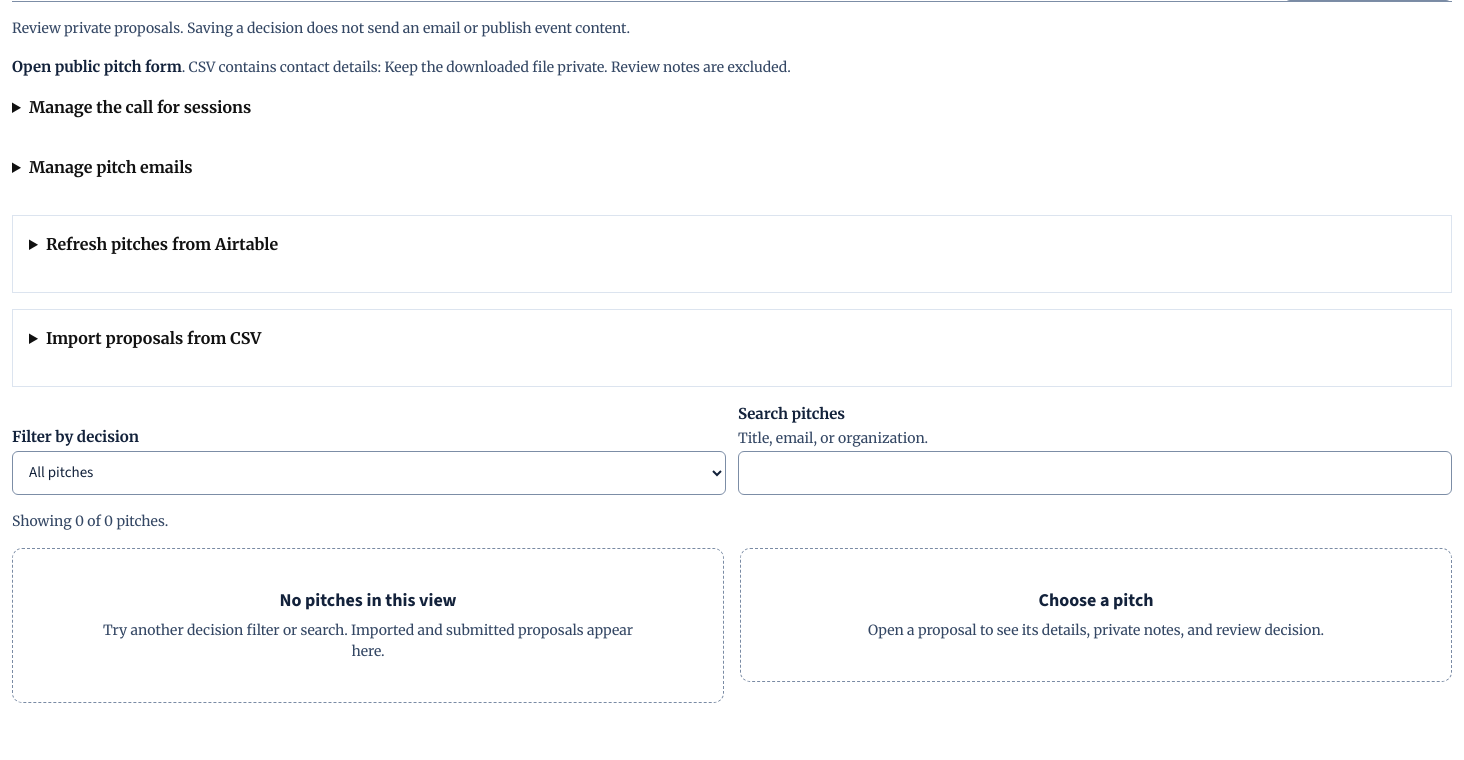
AdminSessionPitches deadline › marks a missing deadline and a bad form address in one refused save
Click the heading "Manage the call for sessions" at (140, 107), box [29,97,251,117]
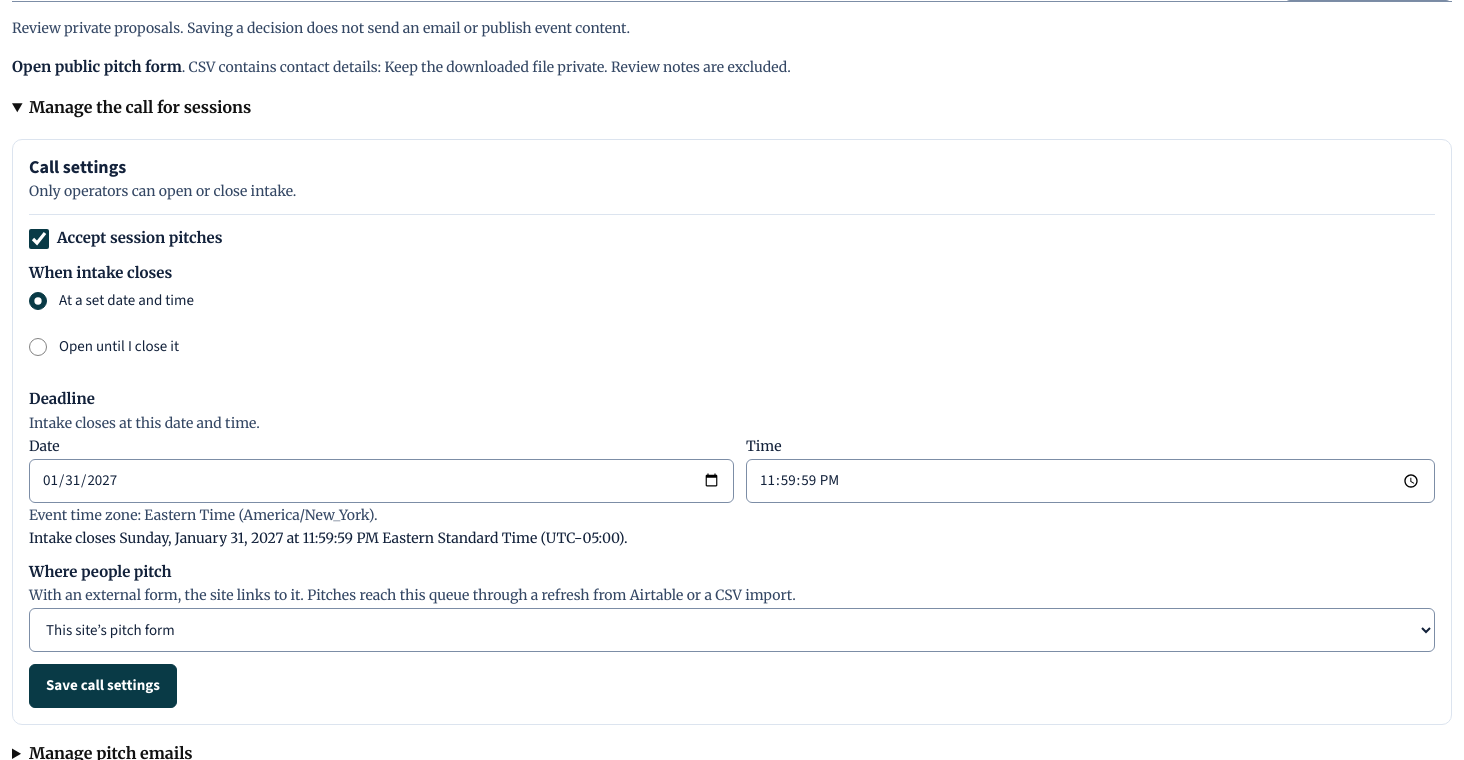
Clear the time field named "Deadline Time" at (1090, 481), box [746,459,1435,503]
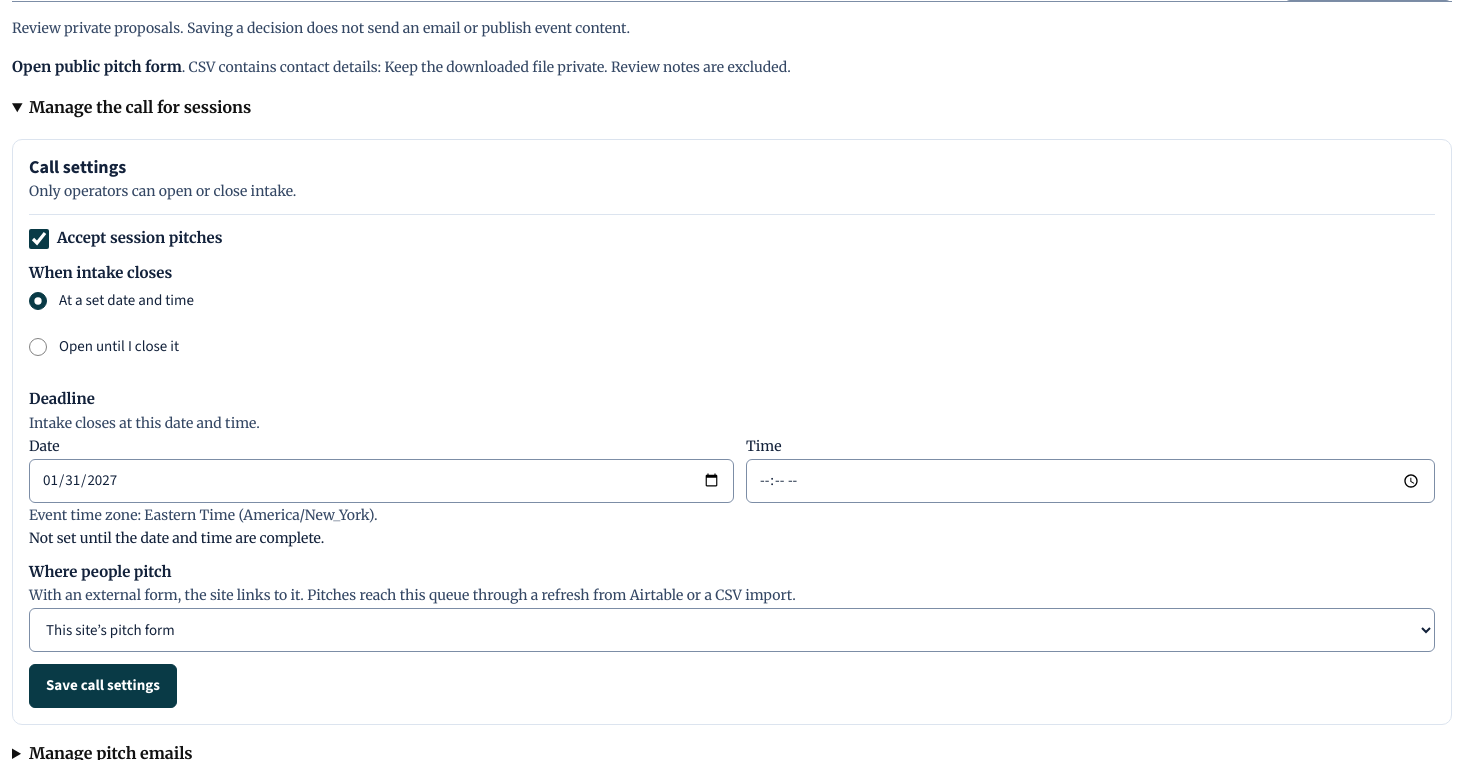
Select "An external form, such as Airtable" in the dropdown labelled "Where people pitch" at (732, 630), box [29,608,1435,652]
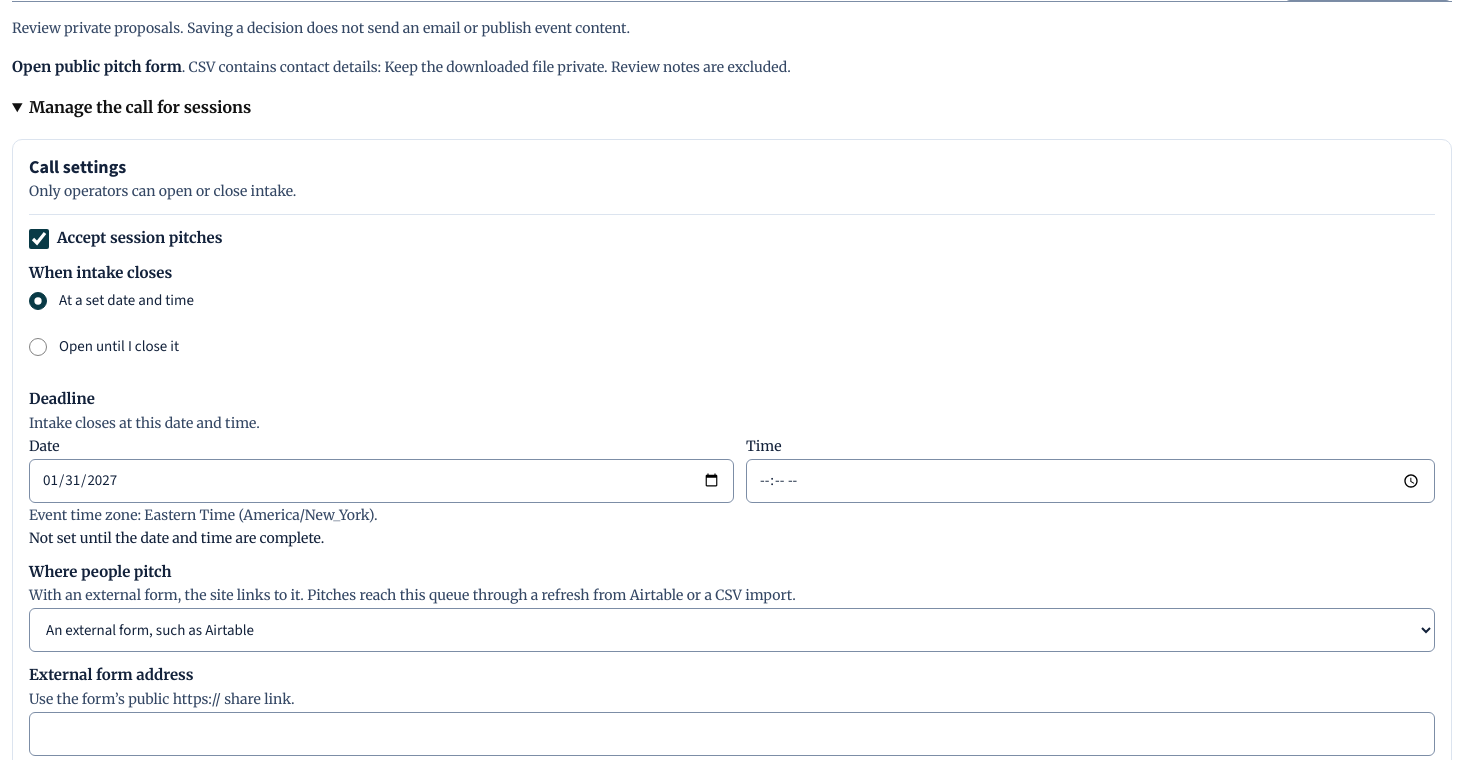
Type "http://forms.example.org/a" into the field labelled "External form address" at (732, 734), box [29,712,1435,756]
(page scrolled)
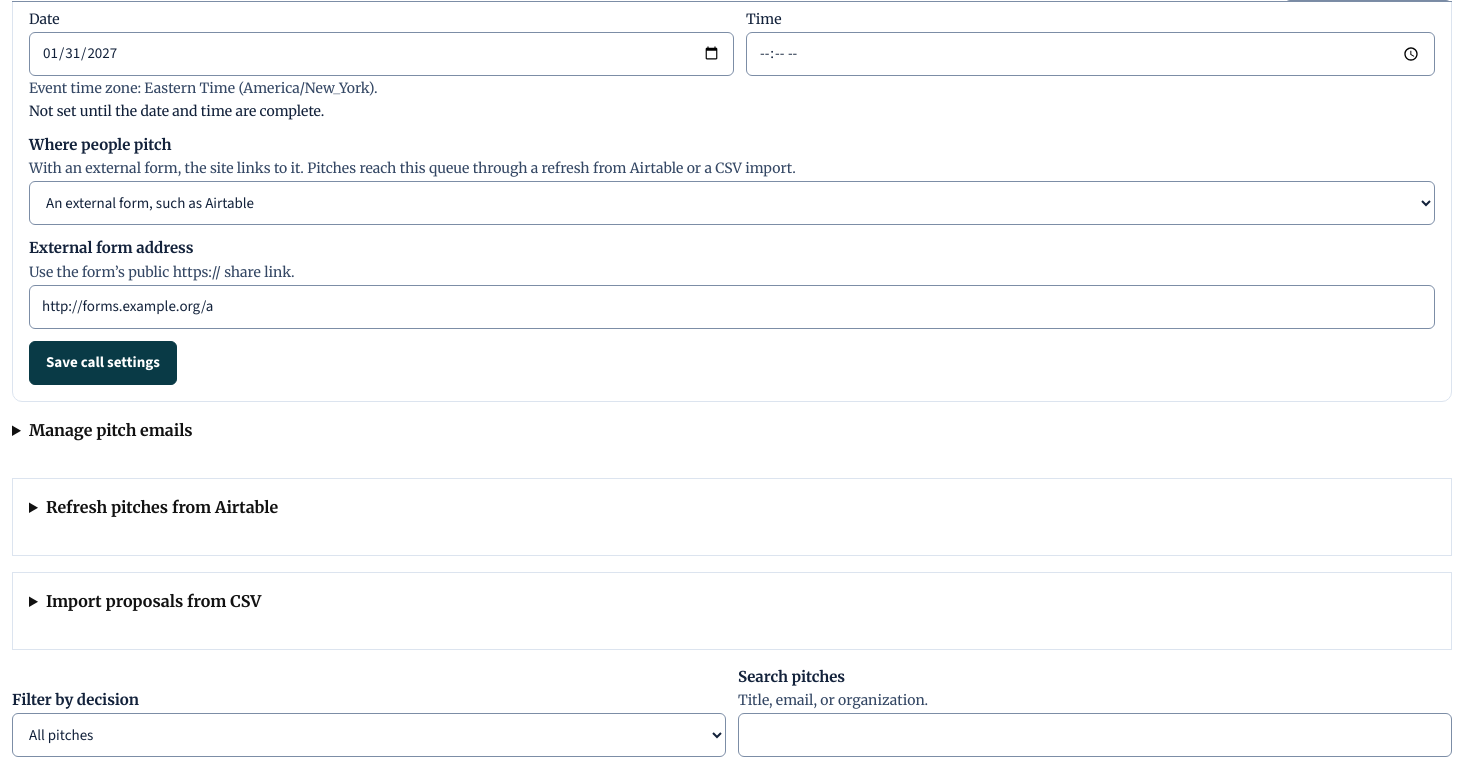
Click the button "Save call settings" at (103, 363), box [29,341,177,385]
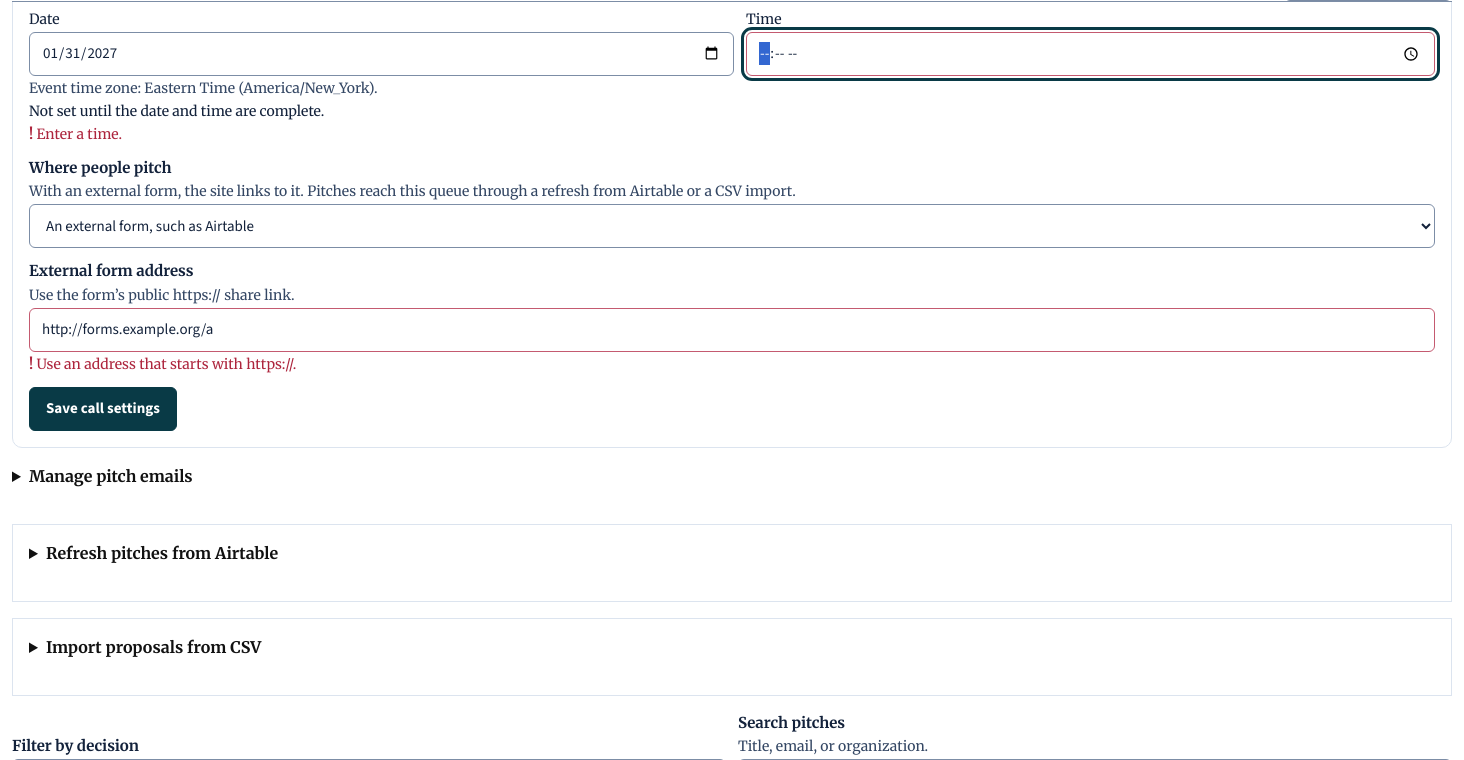
Check: the text "Enter a time." is shown, box [36,125,122,143]
Check: the text "Use an address that starts with https://." is shown, box [36,355,296,373]
